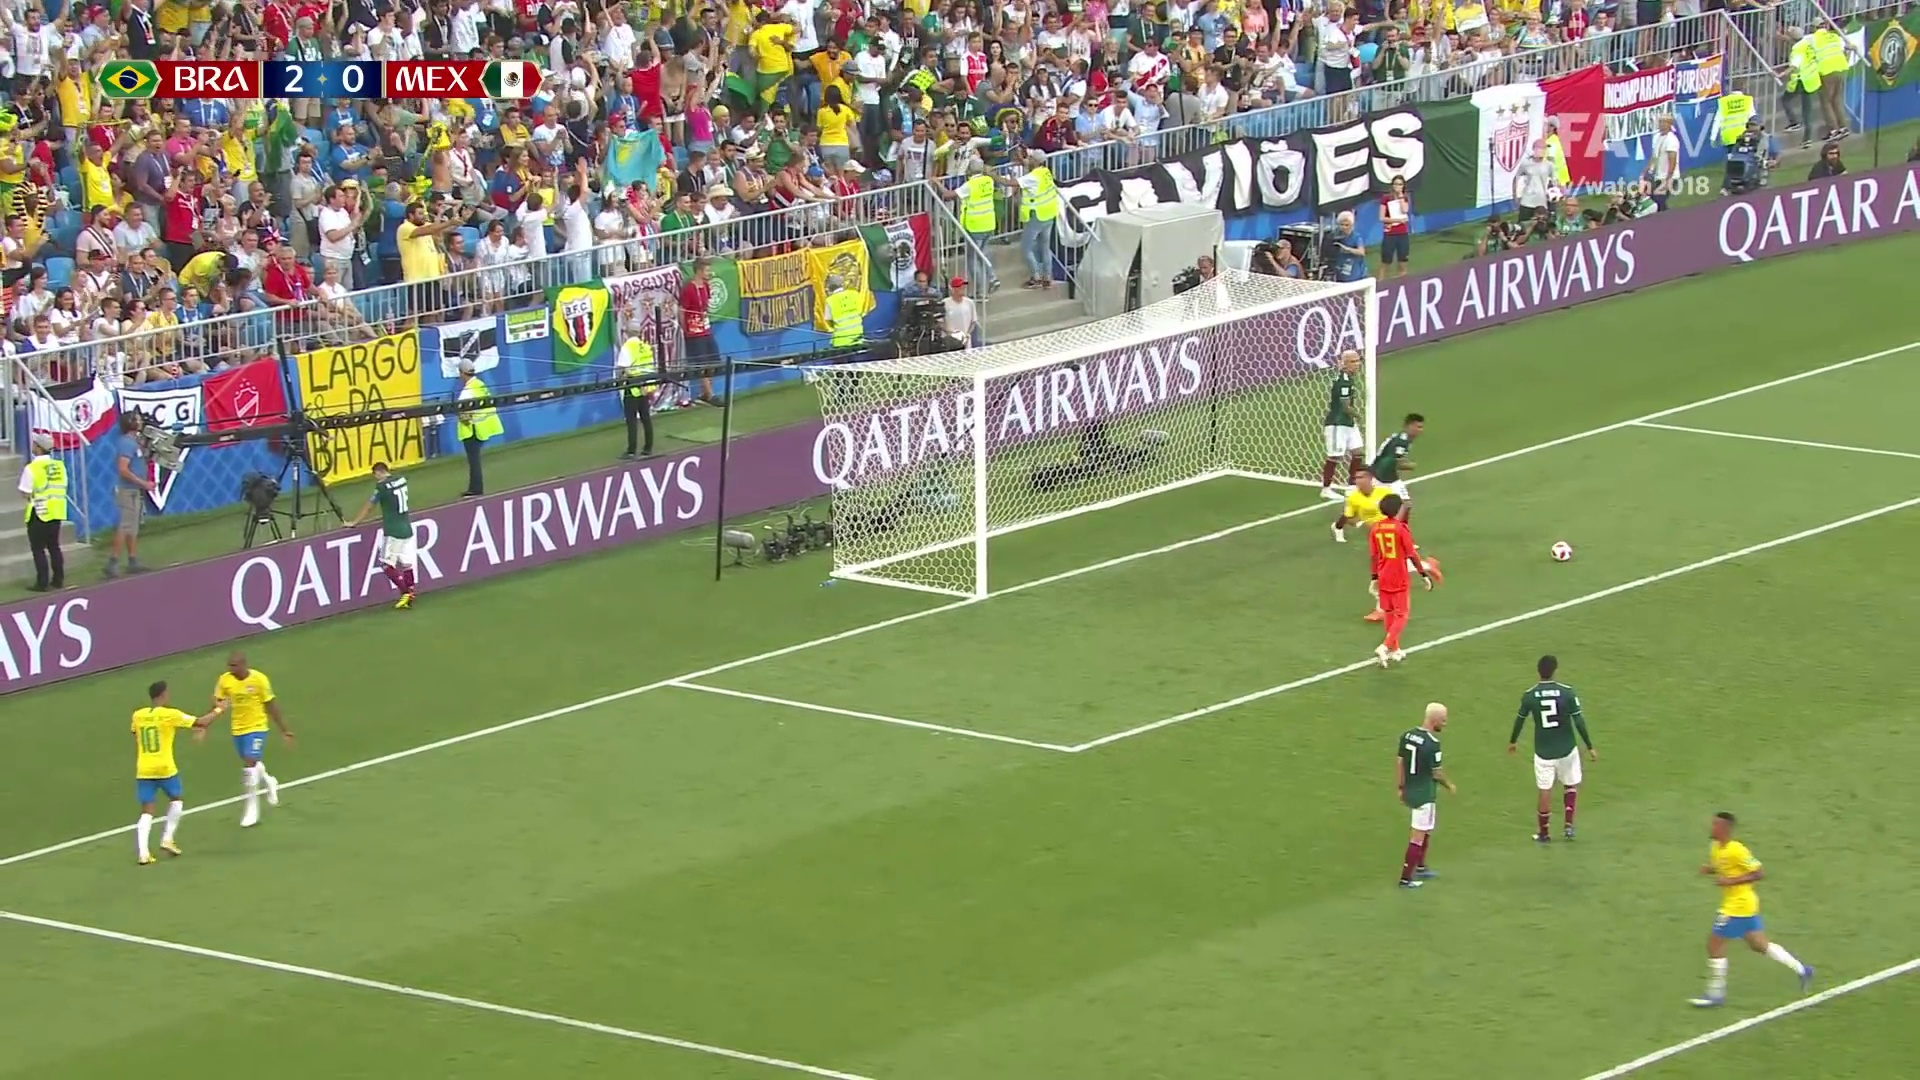ball: (1554, 542, 1569, 558)
person: (1694, 805, 1813, 1013), (198, 656, 296, 825), (1515, 656, 1594, 842), (1394, 702, 1454, 885), (133, 682, 190, 865), (351, 463, 418, 608), (1373, 494, 1429, 663), (1318, 352, 1363, 495), (1371, 413, 1417, 505), (1340, 466, 1390, 530)
